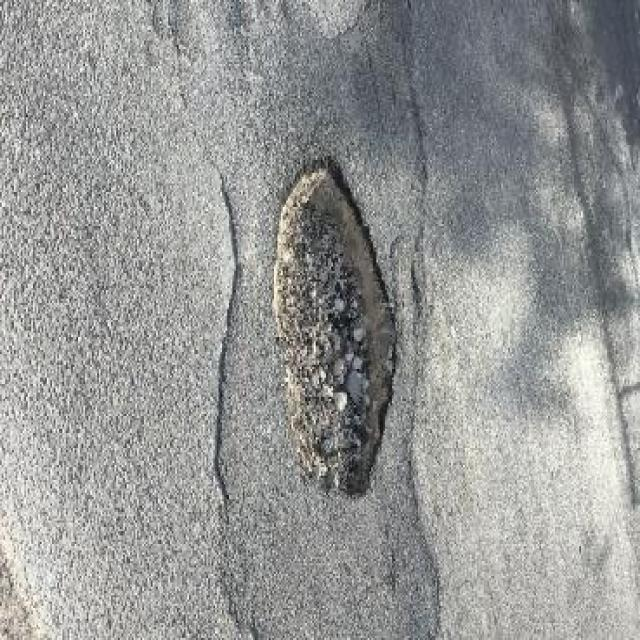pothole: (242, 134, 402, 514)
